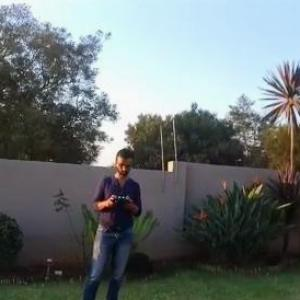follow: (66, 143, 144, 299)
